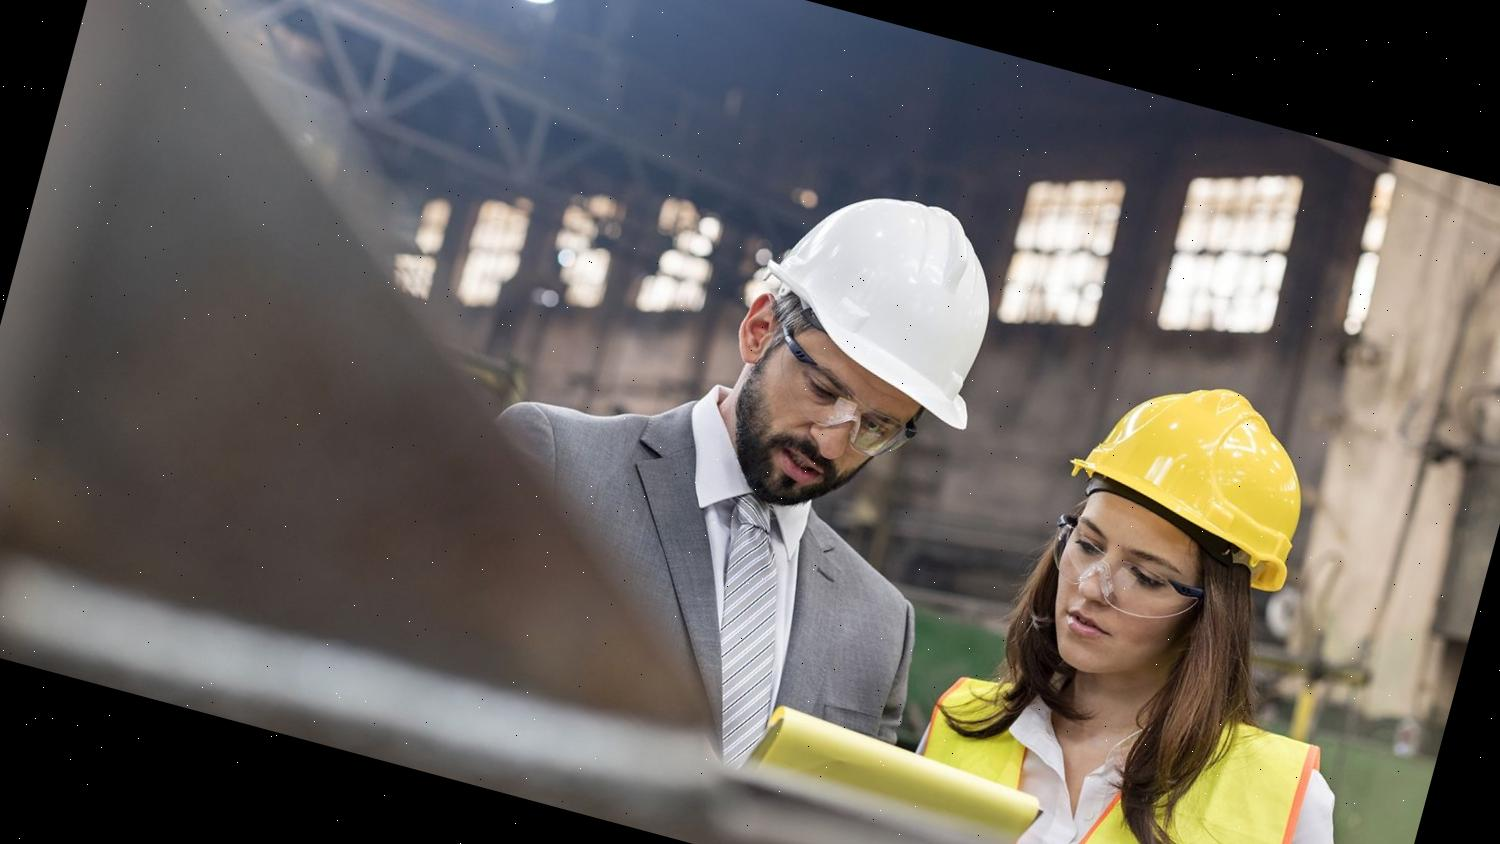helmet: (735, 166, 1023, 431), (1045, 351, 1329, 597)
no_wear: (431, 413, 945, 807)
wear: (890, 644, 1373, 844)
